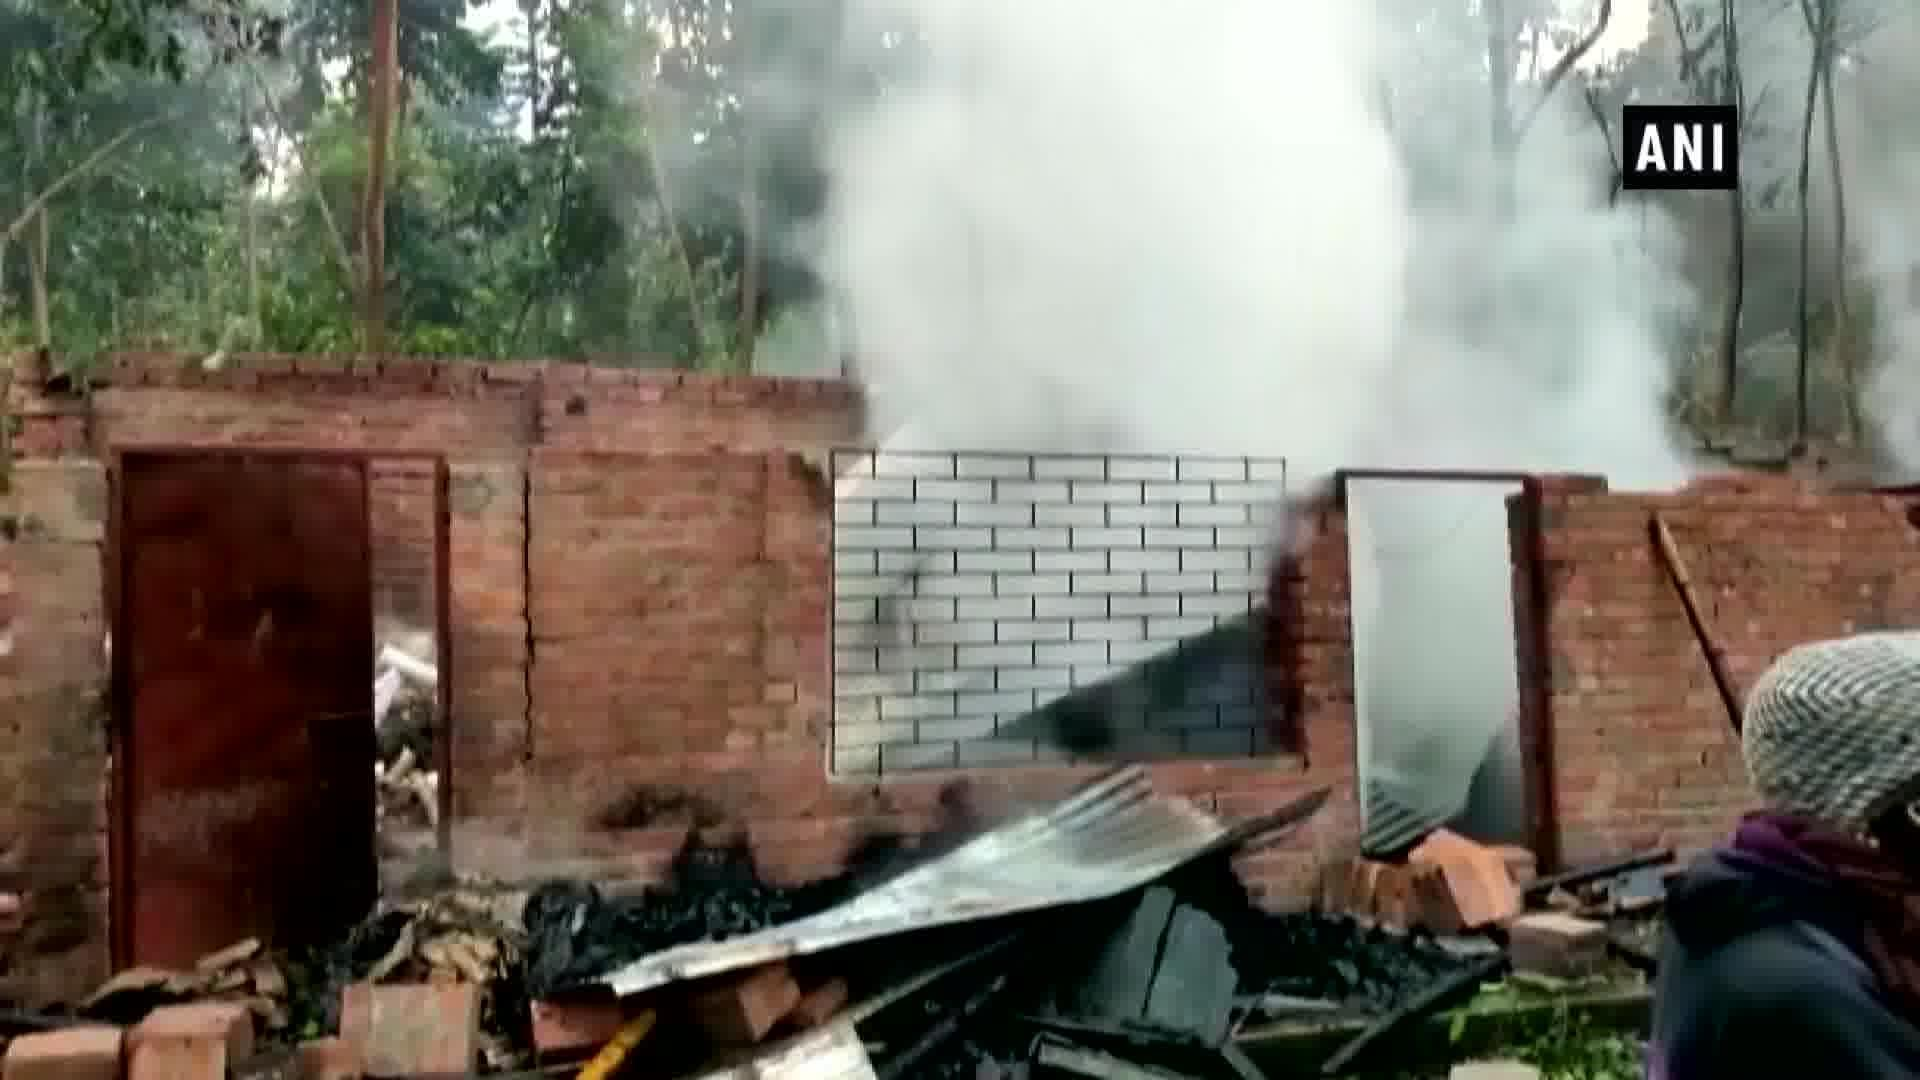smoke: (764, 0, 1698, 487), (1346, 489, 1516, 796), (1850, 179, 1920, 488), (608, 50, 731, 218)
